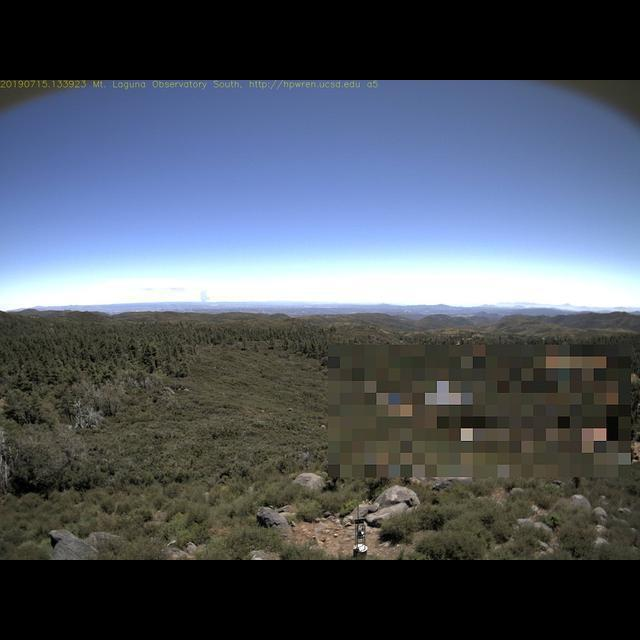Smoke: (197, 290, 212, 306)
